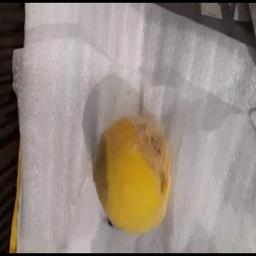Peach Rotten: (87, 114, 174, 239)
